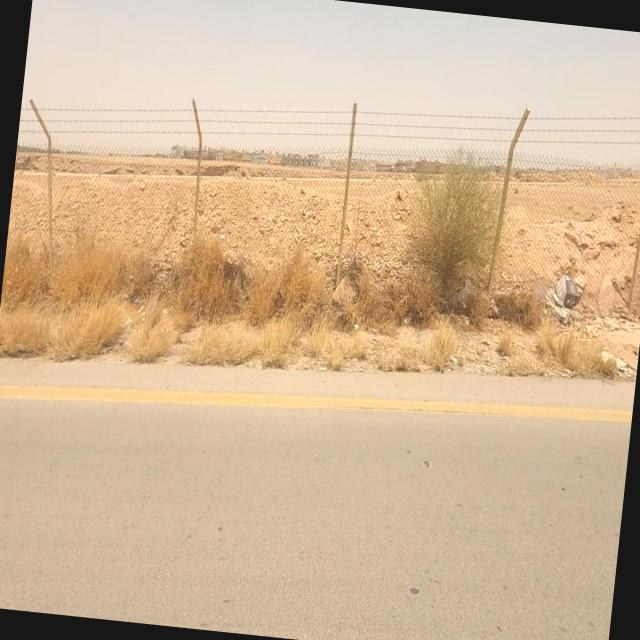debris: (523, 238, 610, 354), (583, 328, 640, 388)
